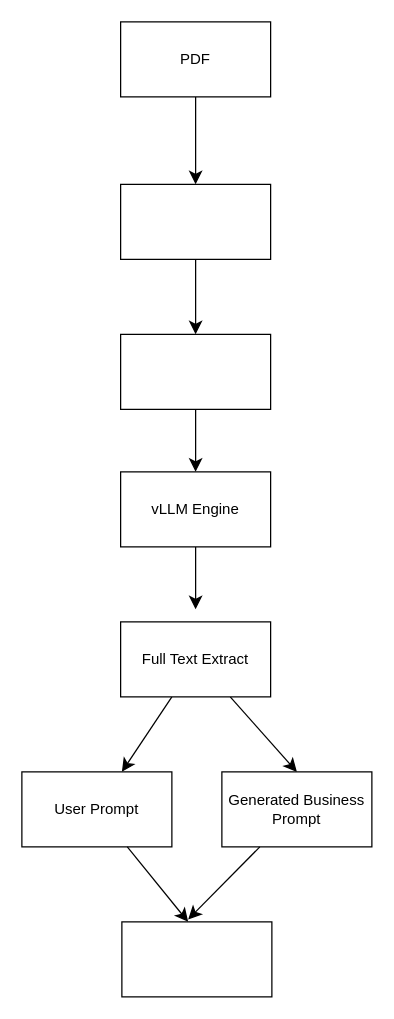
Image size: 394x1019. Some labels were removed from this diagram. The shapes that lost their labels are listed below. From the top down, each one's centre as x and y in pixels, then its label:
(195,221): Image Encoder
(195,371): Batch Chat Message
(196,959): Result
